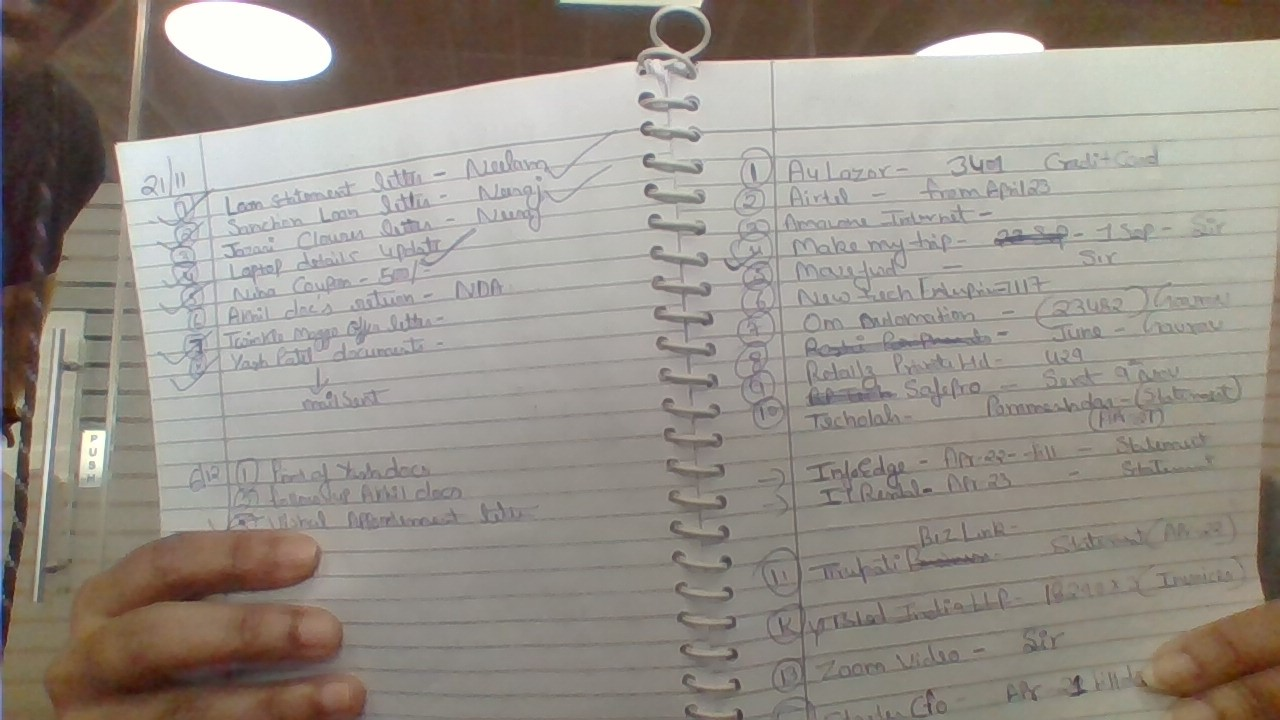partial: (666, 36, 1280, 720), (124, 64, 713, 720)
